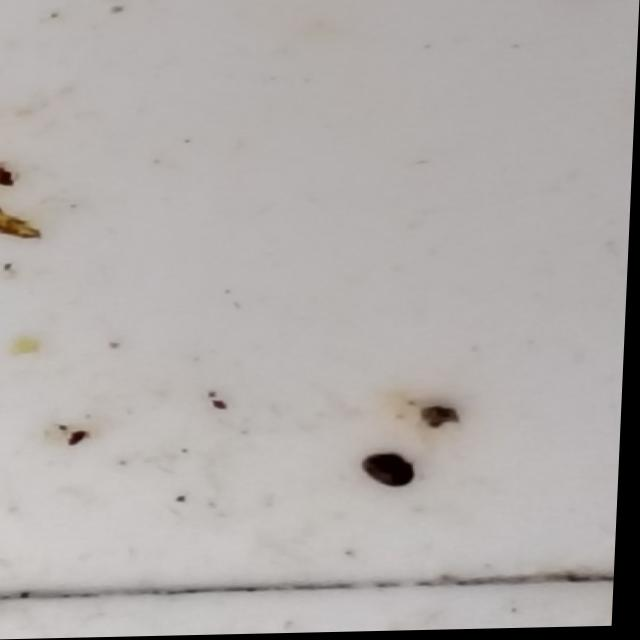varroa: (363, 453, 423, 494)
